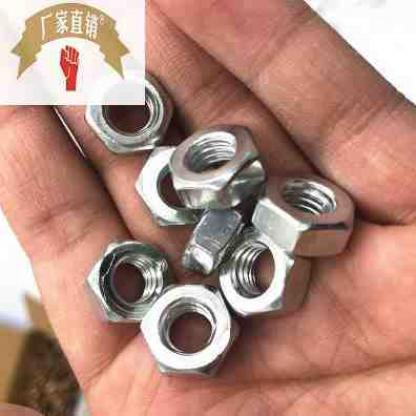FOD: (134, 280, 244, 380), (249, 174, 359, 263), (216, 234, 317, 325), (171, 119, 267, 213), (80, 239, 180, 329), (78, 72, 173, 159), (134, 140, 211, 231), (179, 201, 252, 278)
